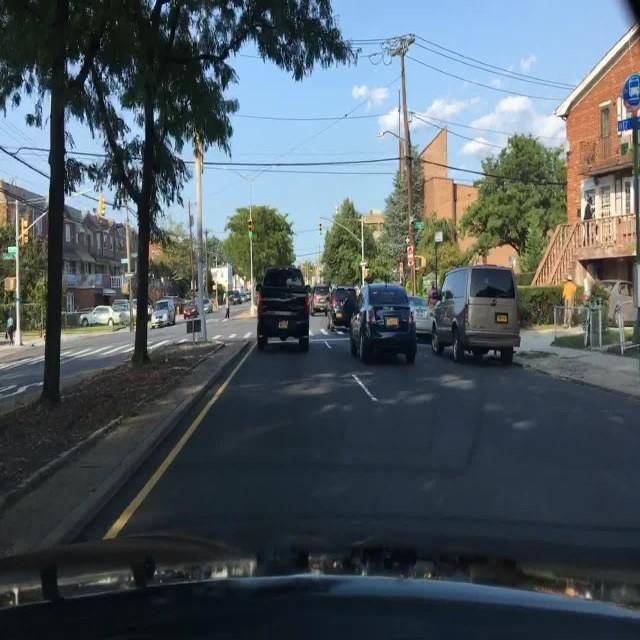normal: (432, 264, 523, 363), (348, 285, 416, 366), (257, 266, 312, 352), (408, 295, 435, 336), (80, 305, 118, 326), (150, 299, 178, 327), (311, 285, 331, 314)
